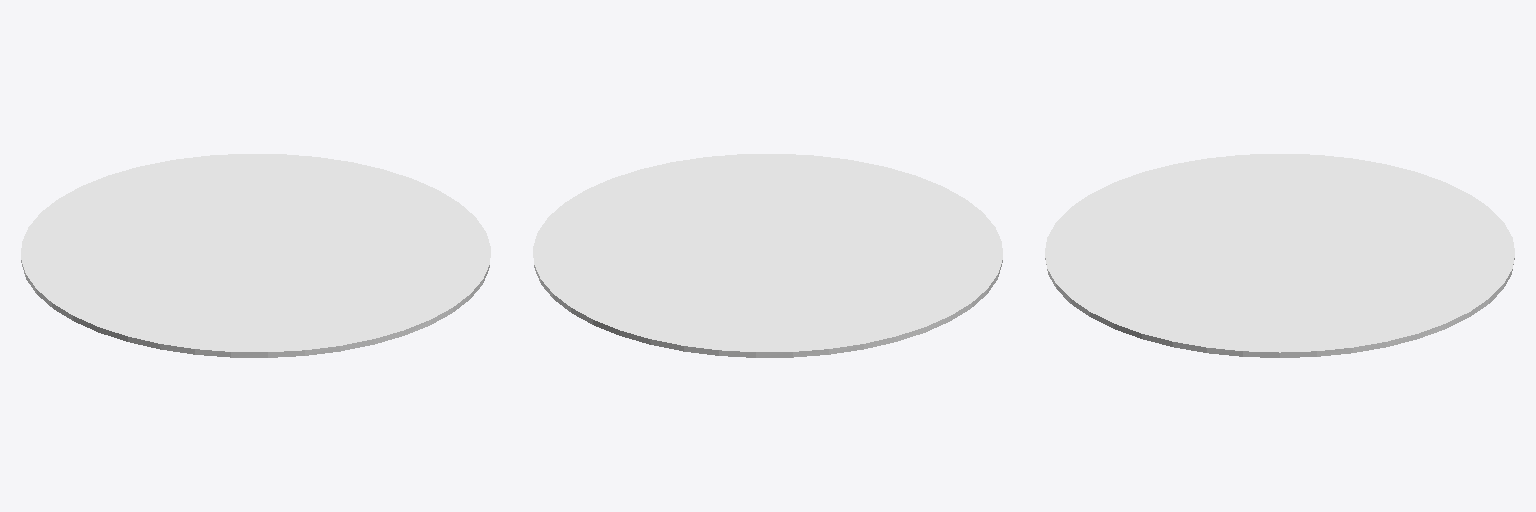
File: wine-glass-without-shading.obj
The picture shows the model from 3 angles: view 1: azimuth 30°, elevation 25°; view 2: azimuth 150°, elevation 25°; view 3: azimuth 270°, elevation 25°; orthographic projection.
Bounding box in the file's own units: 3.58 × 0.05 × 3.58.